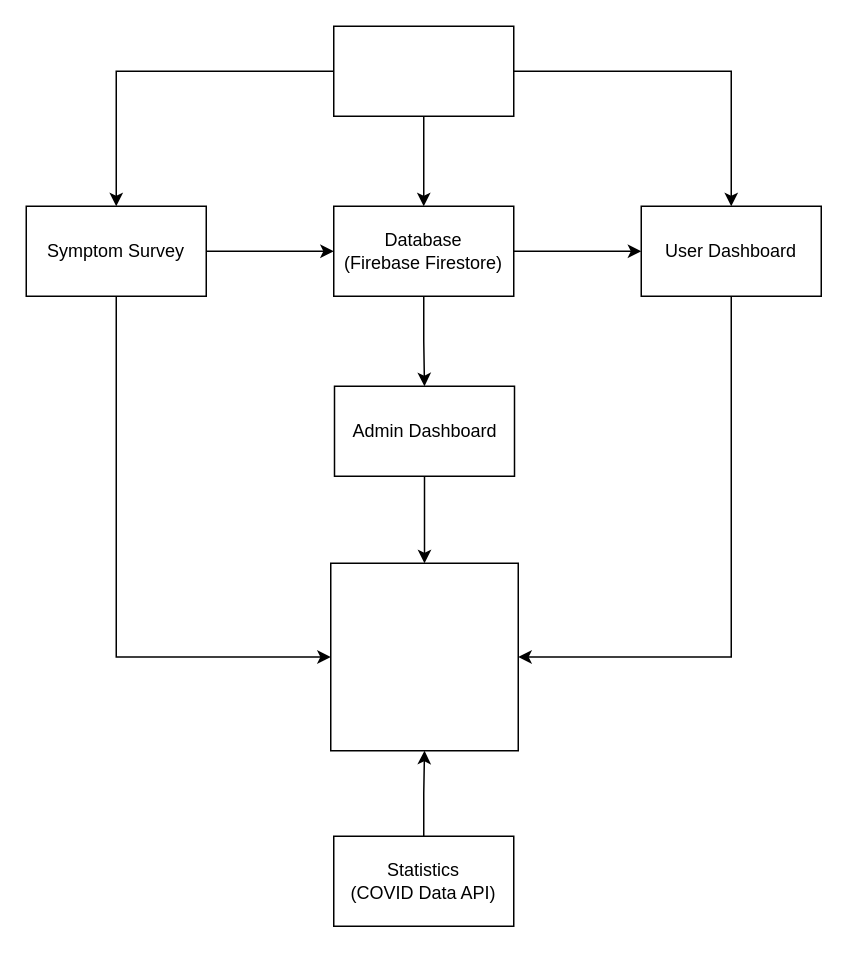
This 848x953 diagram has some shape labels left out. The centre of each missing label's shape, as x and y in pixels:
Application (Firebase Web App): pixel 423 656
Authentication (Google SSO): pixel 423 70
